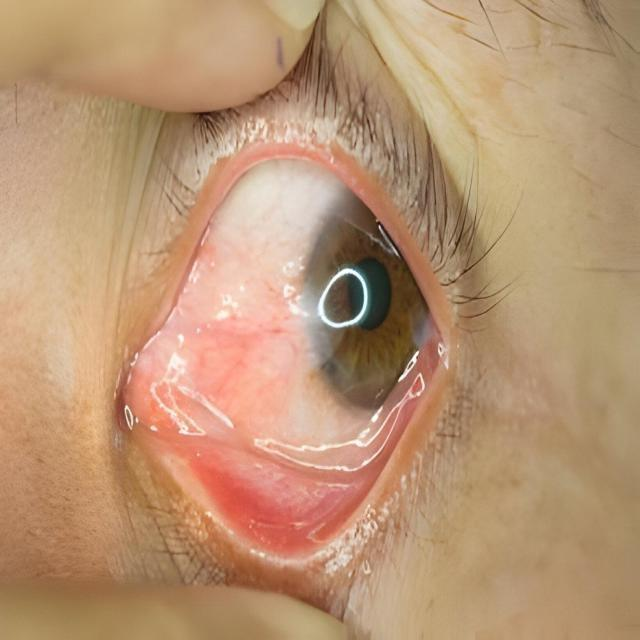Pterygium: (139, 198, 335, 453)
